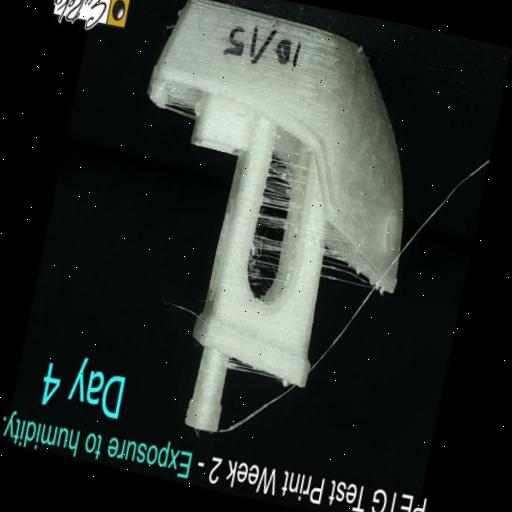stringing: (238, 141, 320, 303), (314, 228, 384, 290), (222, 350, 278, 380)
